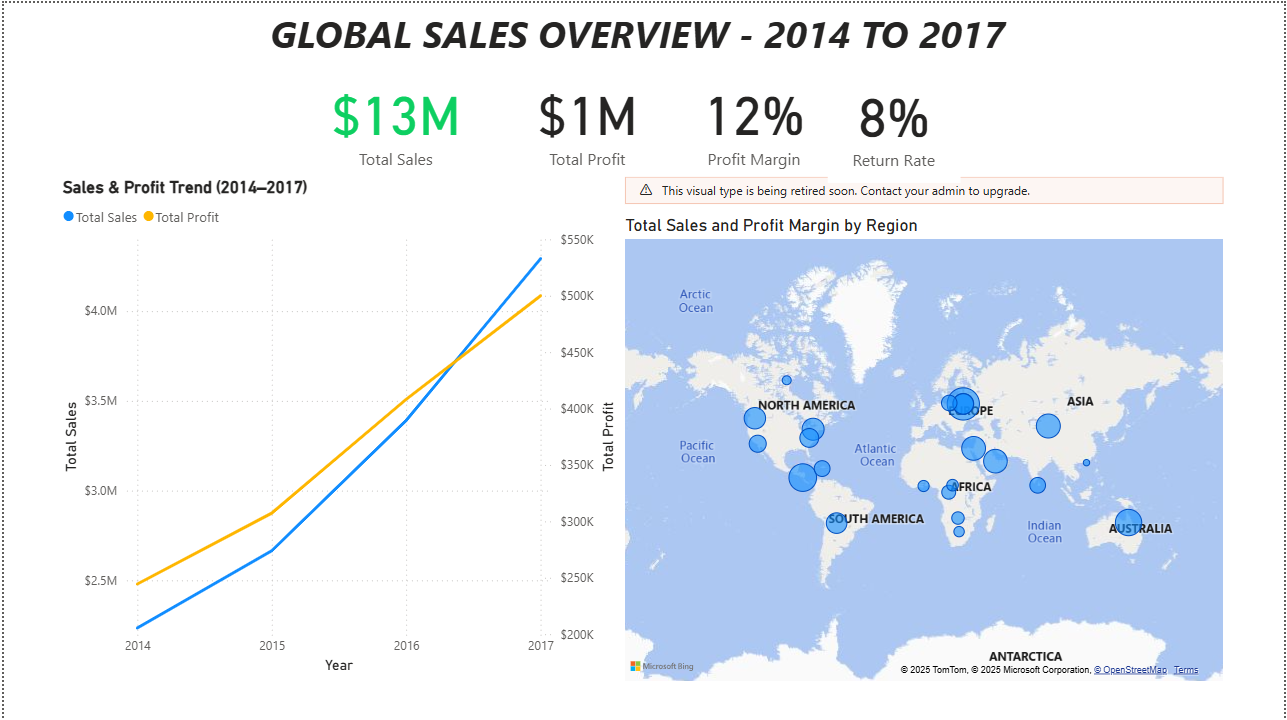

This screenshot's page, from the dashboard's own definition file:
{"tool":"powerbi","page":{"name":"Overview","canvas":[1280,720],"ordinal":0},"visuals":[{"type":"card","fields":{"Values":["Orders.Total Sales"]},"box":[295.2,56.7,194.2,122.1],"z":0},{"type":"card","fields":{"Values":["Orders.Total Profit"]},"box":[489.4,56.7,187.2,122.1],"z":1000},{"type":"card","fields":{"Values":["Orders.Profit Margin"]},"box":[676.6,56.7,147.7,122.1],"z":2000},{"type":"lineChart","title":"Sales & Profit Trend (2014–2017)","fields":{"Category":["Orders.Year"],"Y":["Orders.Total Sales"],"Y2":["Orders.Total Profit"]},"box":[53.2,173.8,562.8,501.2],"z":3000},{"type":"map","fields":{"Category":["Orders.Region"],"Size":["Orders.Total Sales"]},"box":[616,173.8,608.1,509.3],"z":4000},{"type":"card","fields":{"Values":["Orders.Return Rate"]},"box":[824.3,57.9,132.6,122.1],"z":5000},{"type":"textbox","box":[261.2,0,758.8,62.5],"z":6000}]}

Visuals, with their boxes in screenshot pixels (x1, y1, x2, y2), scaled from the page's 1280x720 canvas onto the 1287x720 screenshot:
card - Orders.Total Sales: (297,57,492,179)
card - Orders.Total Profit: (492,57,680,179)
card - Orders.Profit Margin: (680,57,829,179)
"Sales & Profit Trend (2014–2017)" lineChart: (53,174,619,675)
map - Orders.Region x Orders.Total Sales: (619,174,1231,683)
card - Orders.Return Rate: (829,58,962,180)
textbox: (263,0,1026,62)
